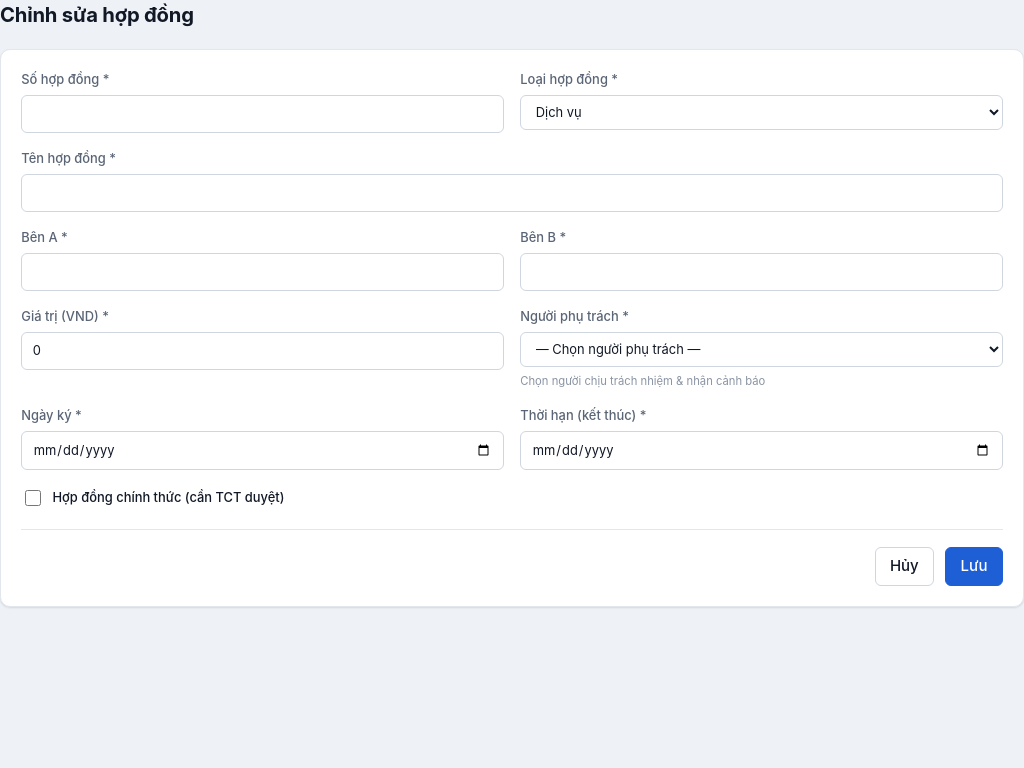
Scenario: ContractFormPage › blocks submit and shows required-field errors when the form is empty
Click the button "Lưu" at (974, 566), box left=945, top=547, right=1003, bottom=586
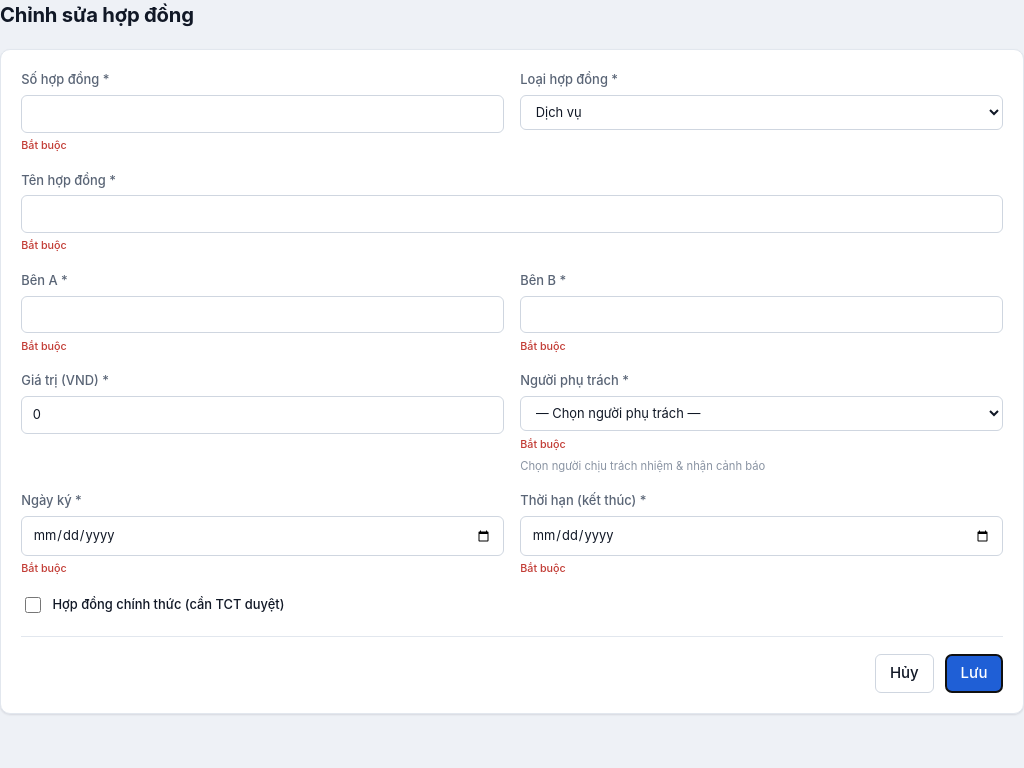
Expected: the text "Bắt buộc" below "Số hợp đồng *" is shown, left=21, top=139, right=67, bottom=152
